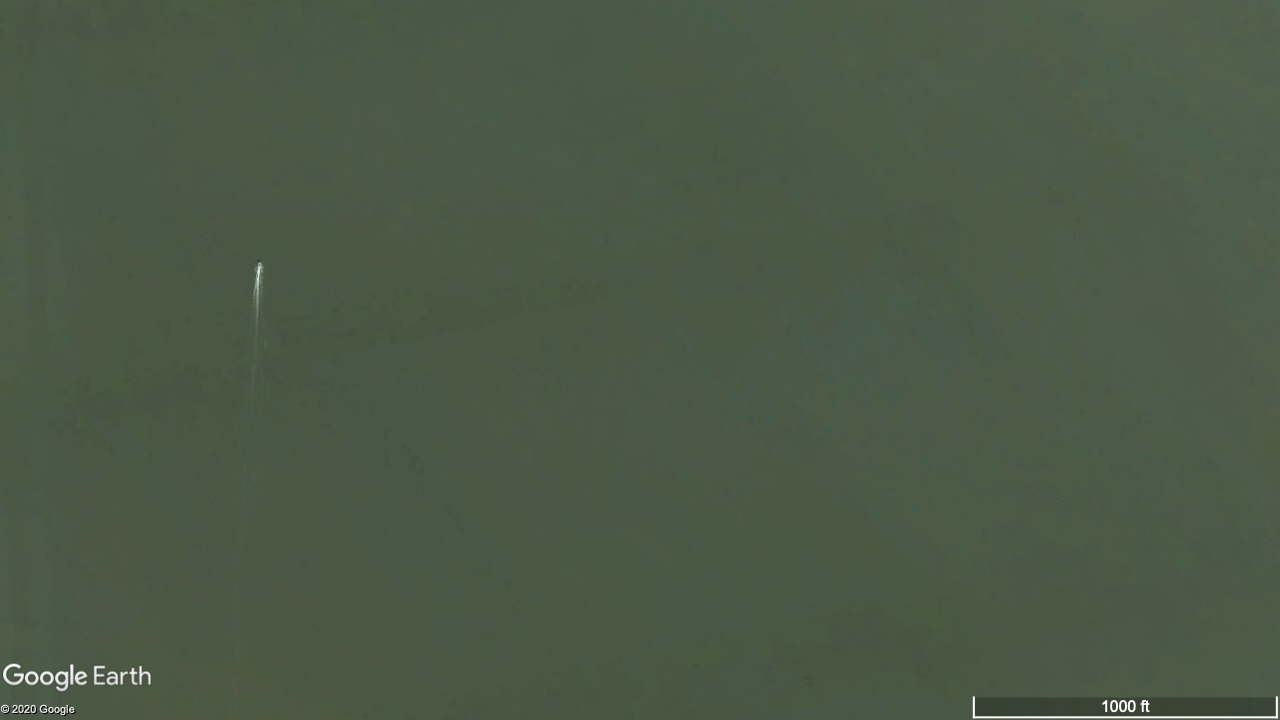satboat: (256, 260, 264, 267)
